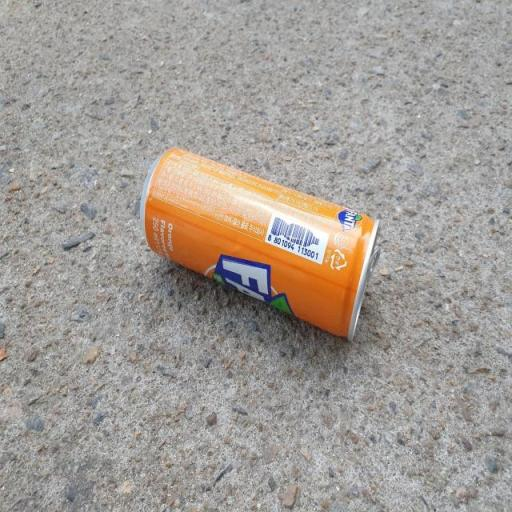metal: (128, 140, 401, 349)
